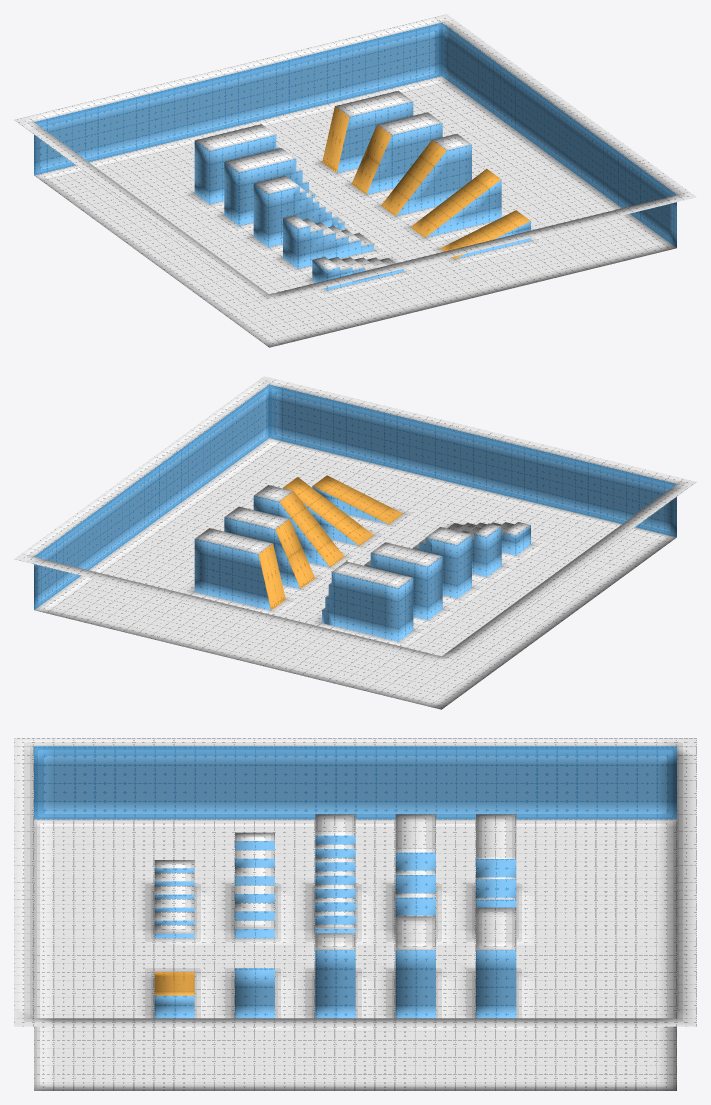
Rendered from ramps.glb.
3 renders of one model, top to bottom at view 1: azimuth 30°, elevation 25°; view 2: azimuth 150°, elevation 25°; view 3: azimuth 270°, elevation 25°, orthographic. The views are drawn at different scales.
Visible parts, largest first — view 1: Environment; view 2: Environment; view 3: Environment.
Part boxes in pixels (x1,y1,x2,y2): Environment: (14,14,696,347); Environment: (14,376,696,709); Environment: (14,738,696,1090).
Bounding box in the file's own units: 17 × 2 × 17.
Materials: 1 (1 with a texture image).
